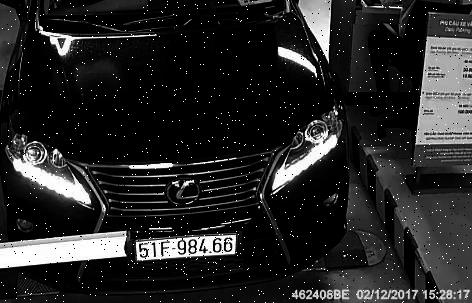License-plate: (128, 233, 244, 273)
